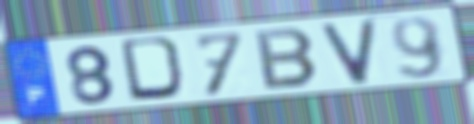7: (193, 29, 246, 98)
8: (64, 44, 119, 107)
9: (390, 15, 447, 80)
B: (252, 26, 322, 92)
D: (117, 34, 193, 103)
V: (317, 17, 379, 87)
